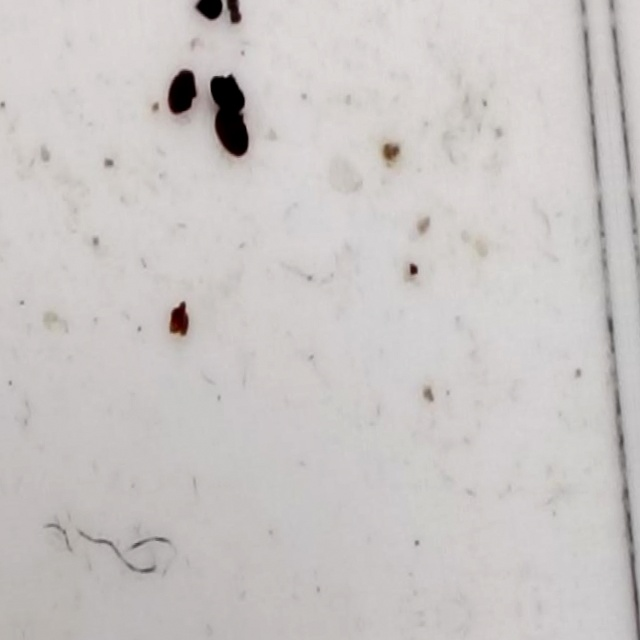varroa: (215, 103, 253, 159), (210, 67, 251, 115), (161, 67, 200, 113), (195, 5, 225, 23)
